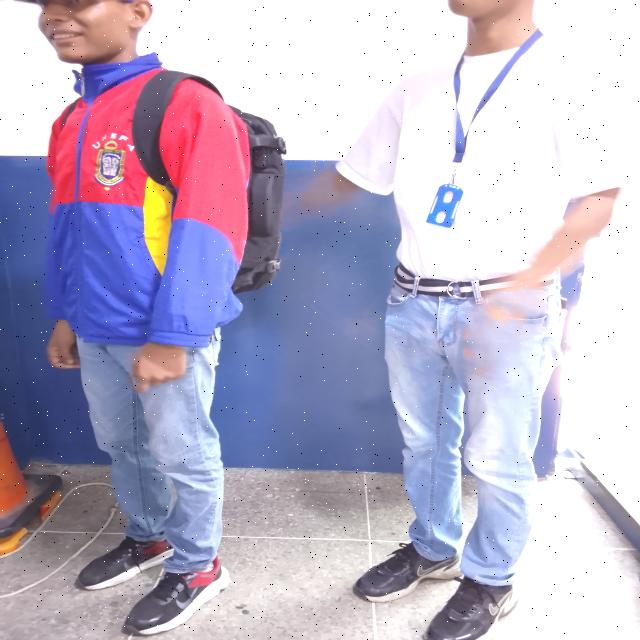carnet: (426, 184, 462, 228)
chaqueta_unefa: (44, 52, 251, 348)
